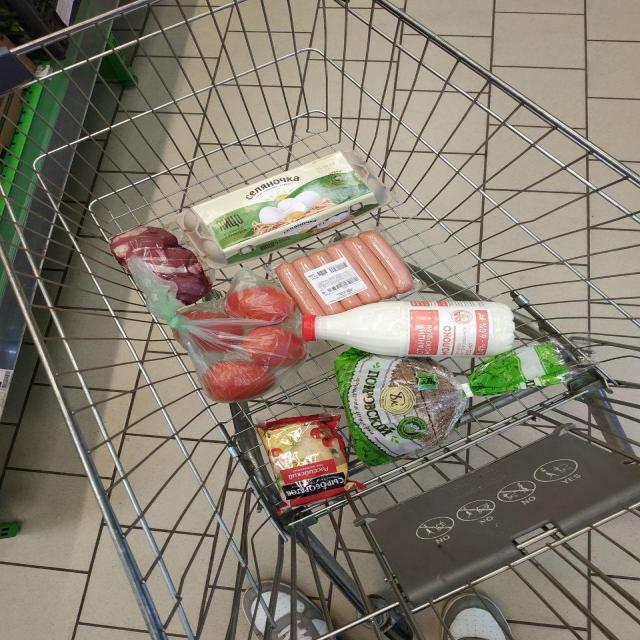cheese: (182, 242, 533, 640)
egg: (206, 111, 571, 273)
milk: (255, 152, 640, 455)
tomato: (142, 193, 408, 561), (148, 162, 410, 488), (118, 170, 362, 506), (140, 143, 395, 429)
